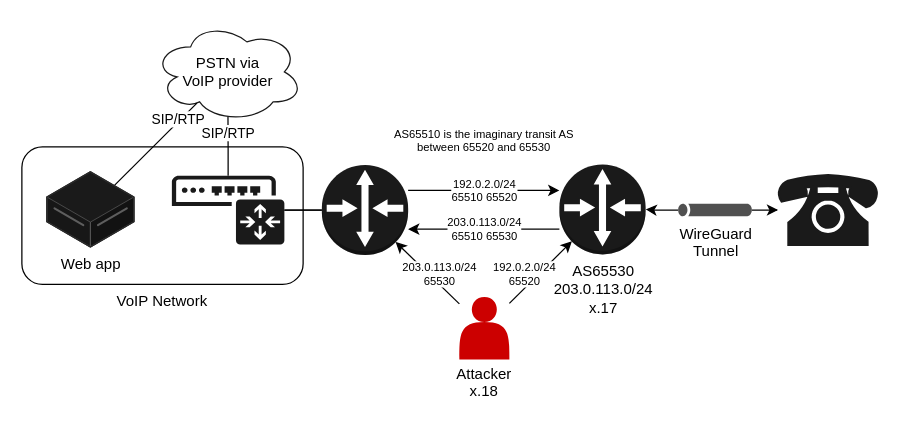
Image size: 901x424. Some labels were removed from this diagram. Here are the shapes that lost their labels. From the top down, the centre of each, then its label:
the point at 227,209: PBX
the point at 364,209: AS65520 192.0.2.0/24 x.16
the point at 827,209: VoIP Phone 203.0.113.2/24
